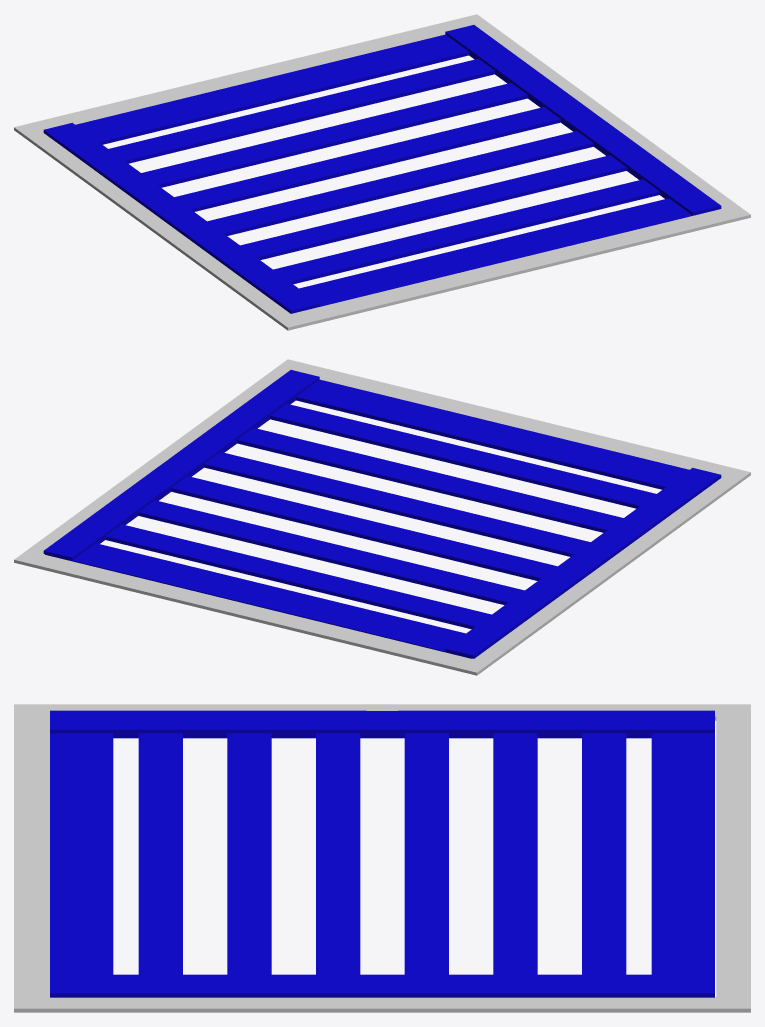
File: suelo 1.fbx
3 renders of one model, top to bottom at view 1: azimuth 30°, elevation 25°; view 2: azimuth 150°, elevation 25°; view 3: azimuth 270°, elevation 25°, orthographic. The views are drawn at different scales.
Visible parts, largest first — view 1: Box007; view 2: Box007; view 3: Box007.
Part boxes in pixels (bbox=[...]): Box007: bbox=[14, 14, 750, 330]; Box007: bbox=[14, 359, 750, 675]; Box007: bbox=[14, 704, 750, 1012].
Size of the model in its own units: 72.88 by 0.9672 by 74.66.
